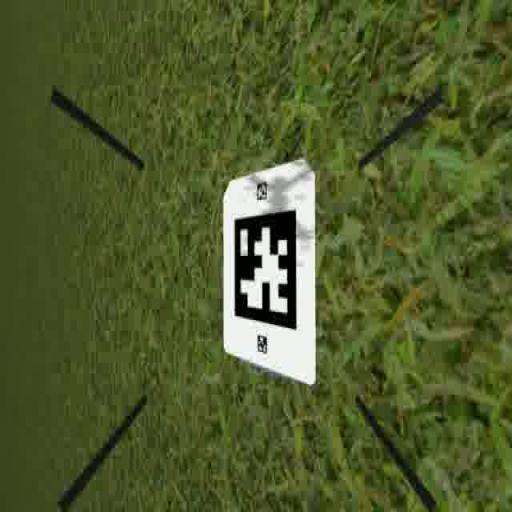UGV: (216, 153, 320, 389)
